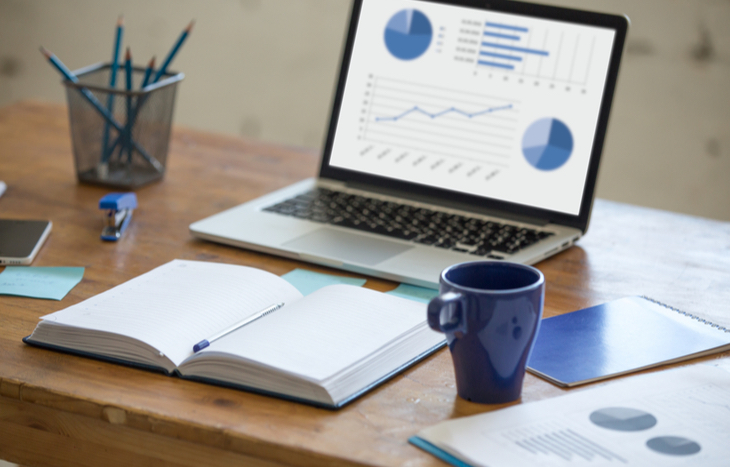Open Book: (20, 256, 460, 411)
